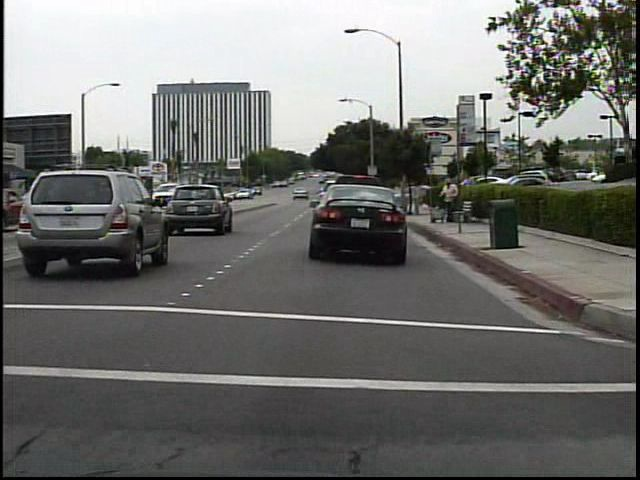person: (438, 176, 462, 227), (407, 177, 429, 219)
